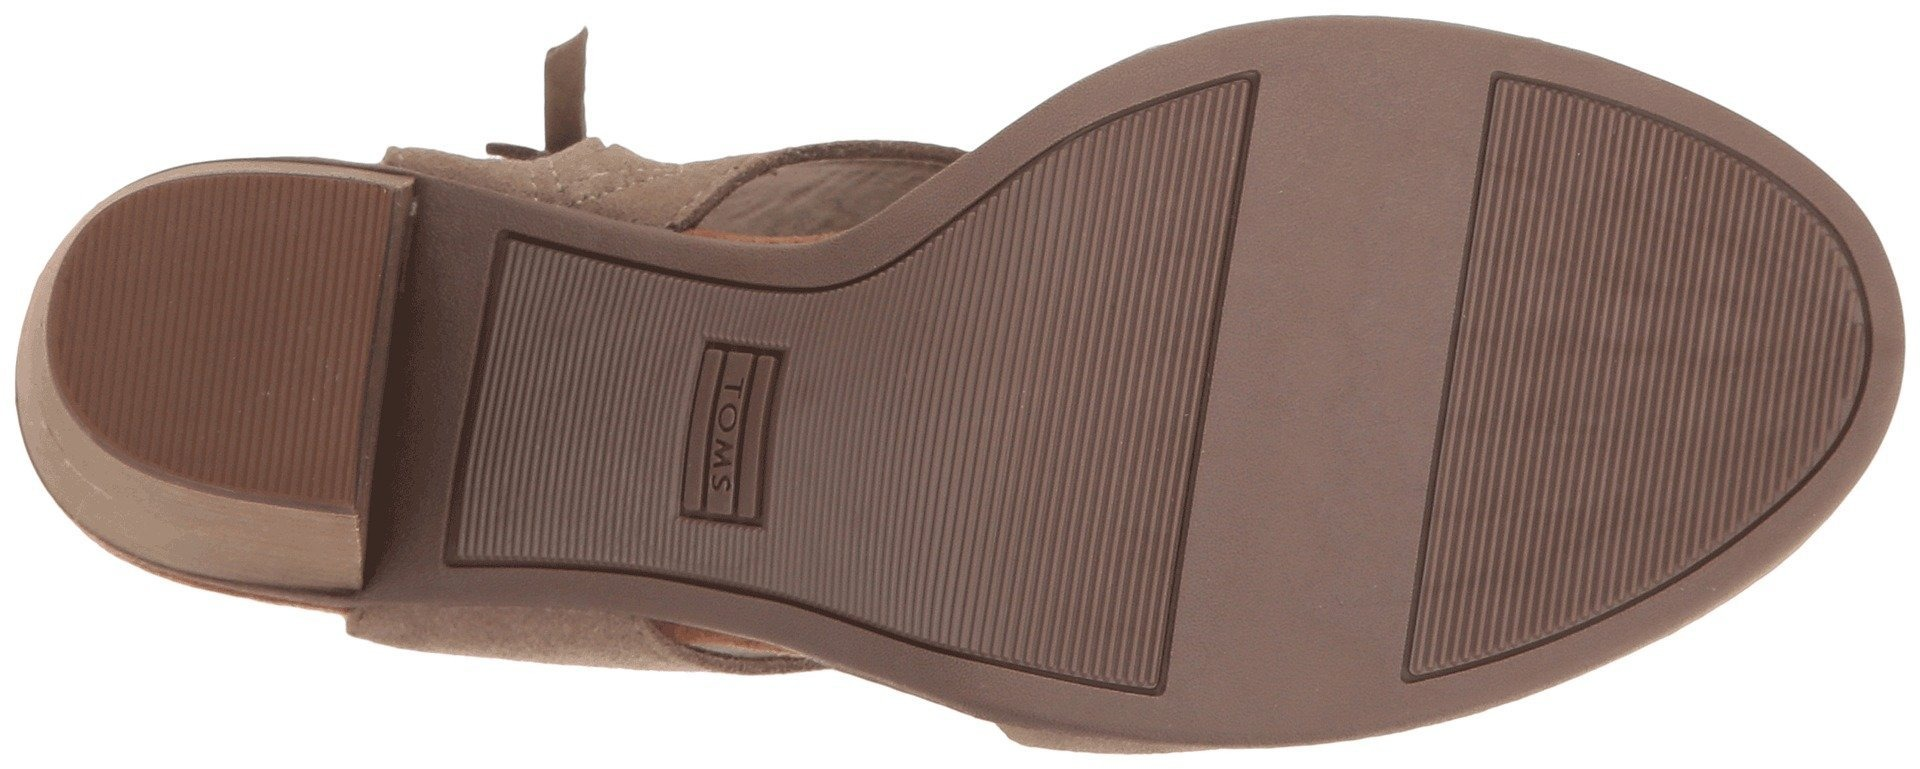line: (1431, 175, 1802, 525), (797, 264, 1130, 640), (103, 201, 364, 414), (1416, 519, 1569, 658)
other: (1167, 329, 1466, 612), (1216, 80, 1494, 332)
quad: (671, 336, 800, 536)
